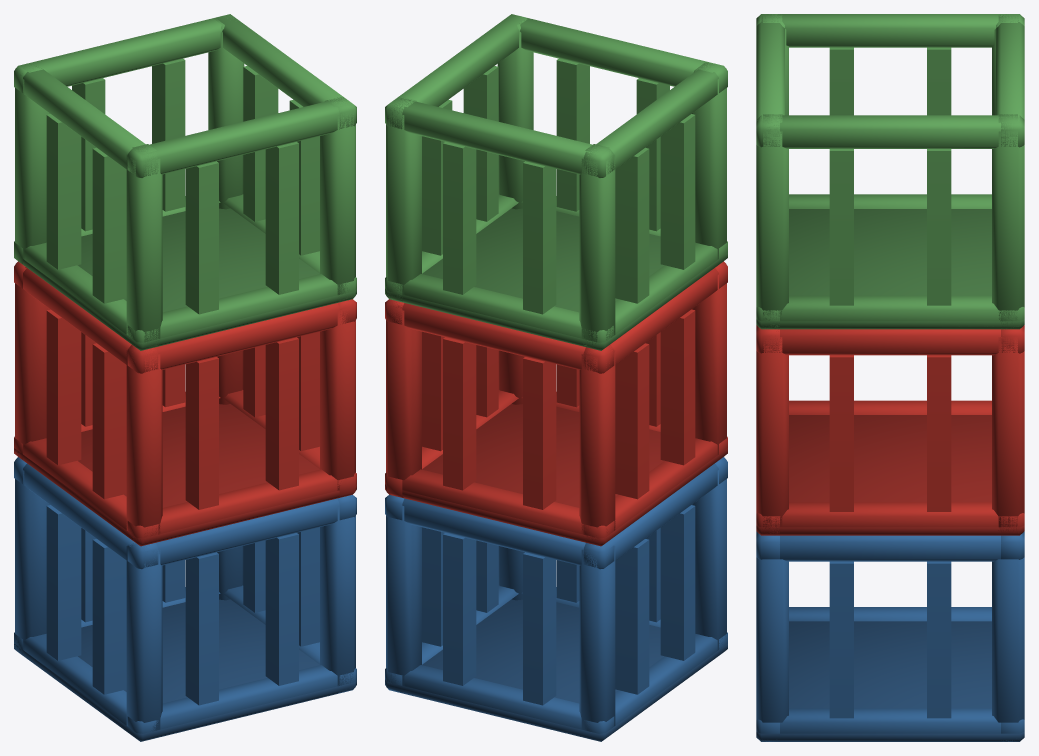
Rendered from SM_MilkCrate_Stack_01.glb.
3 views of the same model, side by side, from view 1: azimuth 30°, elevation 25°; view 2: azimuth 150°, elevation 25°; view 3: azimuth 270°, elevation 25° (orthographic). The views are drawn at different scales.
Parts seen in each view (by area): view 1: SM_MilkCrate_Stack_01; view 2: SM_MilkCrate_Stack_01; view 3: SM_MilkCrate_Stack_01.
Part boxes in pixels (x1,y1,x2,y2): SM_MilkCrate_Stack_01: (14,14,356,741); SM_MilkCrate_Stack_01: (385,14,727,741); SM_MilkCrate_Stack_01: (756,14,1024,741).
Bounding box in the file's own units: 0.33 × 0.84 × 0.33.
Materials: 1 (1 with a texture image).
